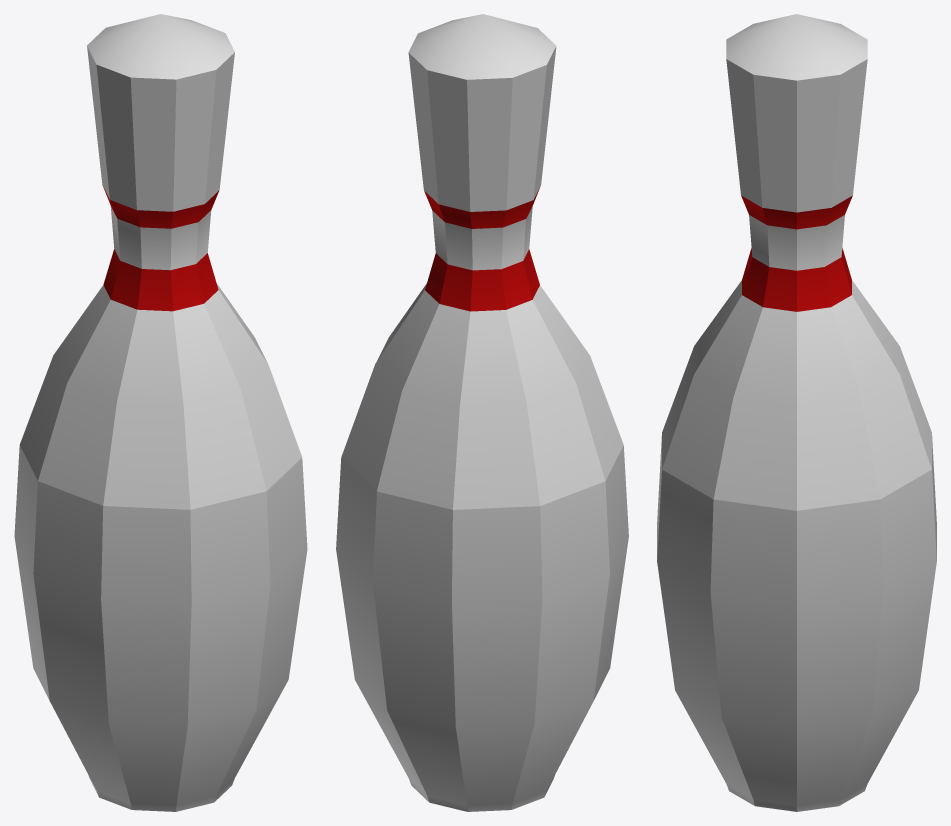
Rendered from lowpoly bowling pin.fbx.
The picture shows the model from 3 angles, left to right: view 1: azimuth 30°, elevation 25°; view 2: azimuth 150°, elevation 25°; view 3: azimuth 270°, elevation 25°; orthographic projection.
Visible parts, largest first — view 1: pCylinder1; view 2: pCylinder1; view 3: pCylinder1.
Part boxes in pixels (x1,y1,x2,y2): pCylinder1: (14,14,307,811); pCylinder1: (336,14,628,811); pCylinder1: (657,14,936,811).
Size of the model in its own units: 2 by 5.75 by 1.9.
